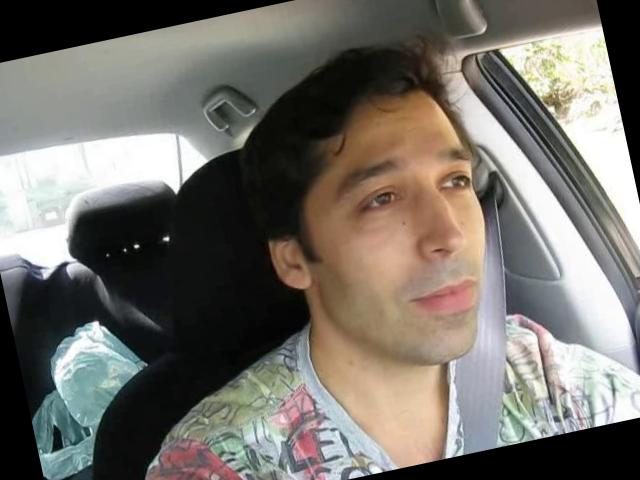eye_open: (348, 178, 408, 222), (434, 163, 476, 199)
face: (311, 130, 518, 382)
